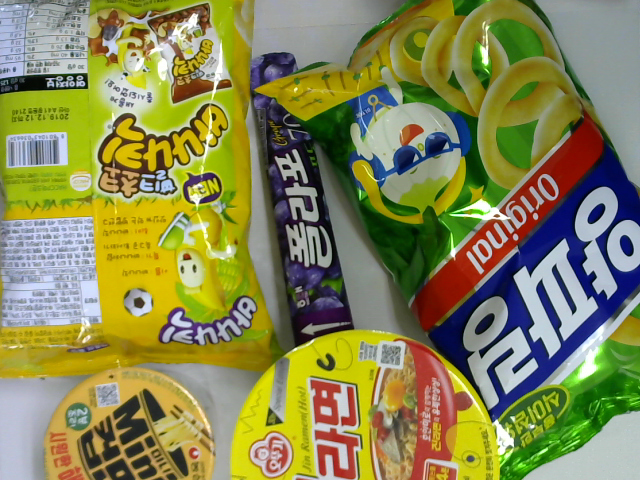Banana_Kick: (1, 1, 292, 380)
Hejangmini: (44, 366, 217, 480)
Jinlamyeon_Hot_Taste_Large_Cup: (231, 328, 500, 480)
Oninon_Ring: (253, 2, 640, 480)
Polapo_Grape: (248, 48, 366, 345)
